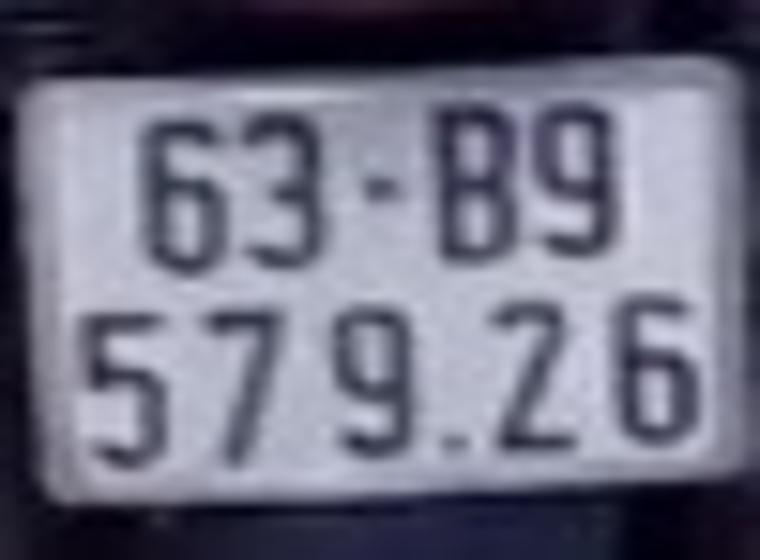-: (354, 174, 411, 204)
.: (442, 429, 470, 460)
2: (481, 296, 585, 456)
3: (241, 104, 323, 280)
5: (78, 305, 181, 474)
6: (130, 112, 233, 281), (606, 285, 709, 447)
7: (206, 298, 299, 465)
9: (532, 97, 624, 264), (326, 300, 417, 456)
B: (423, 94, 528, 268)
